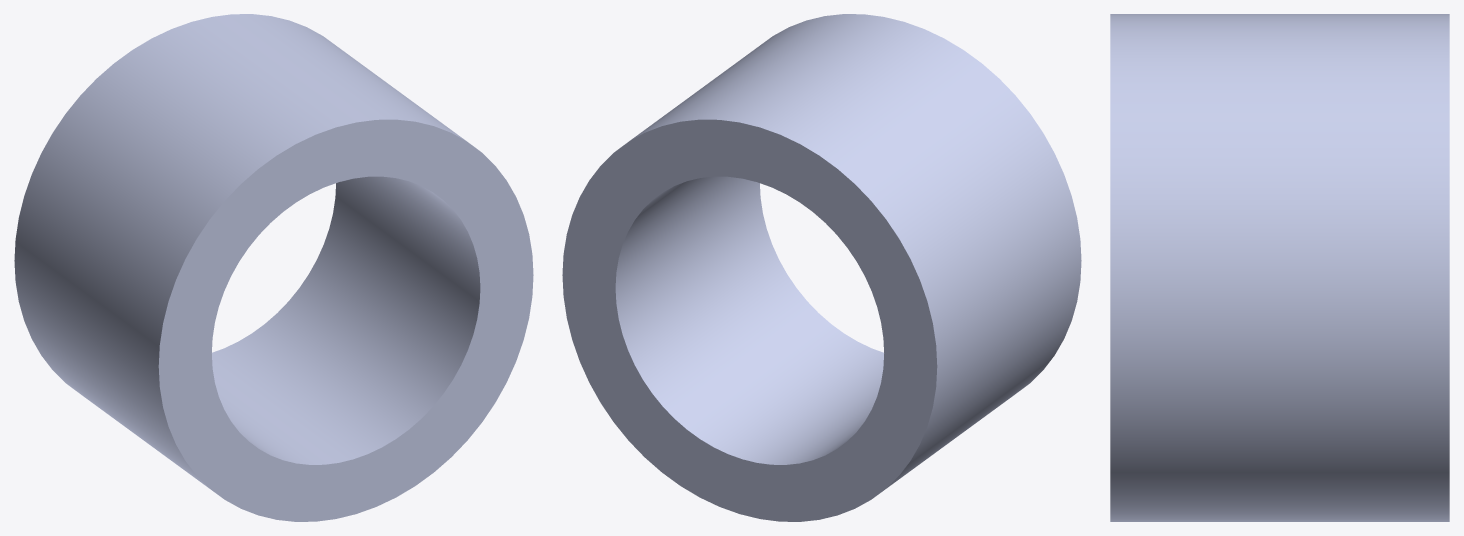
Rendered from PIP Spacer.obj.
3 renders of one model, left to right at view 1: azimuth 30°, elevation 25°; view 2: azimuth 150°, elevation 25°; view 3: azimuth 270°, elevation 25°, orthographic. The views are drawn at different scales.
Parts seen in each view (by area): view 1: mesh1, mesh0, mesh3; view 2: mesh1, mesh2, mesh3; view 3: mesh1.
Part boxes in pixels (x1,y1,x2,y2): mesh1: (14,14,465,494); mesh0: (158,119,533,521); mesh3: (212,176,480,464); mesh1: (630,14,1081,494); mesh2: (562,119,937,521); mesh3: (615,176,883,464); mesh1: (1110,14,1449,521).
Bounding box in the file's own units: 0.006 × 0.00599 × 0.004.
